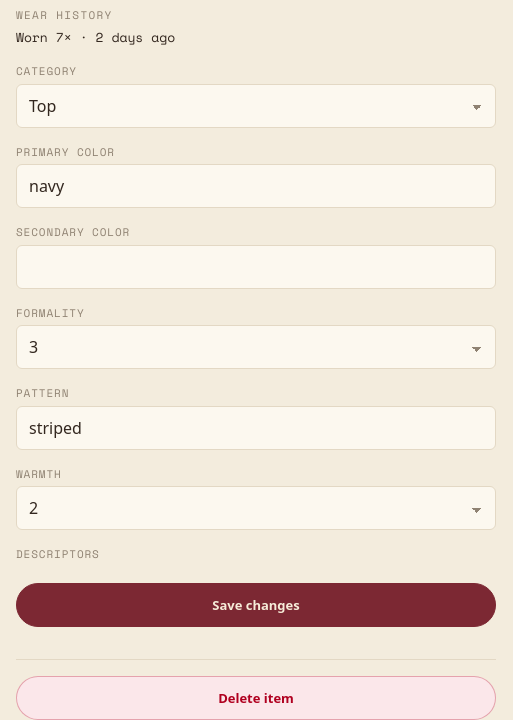
Scenario: ItemDetail › keeps the user on the page when a delete fails
(page scrolled)
Expected: the field labelled "Primary color" is shown, top-left (16, 164), bottom-right (496, 208)
Click the button "Delete item" at (256, 698), box top-left (16, 676), bottom-right (496, 719)
(page scrolled)
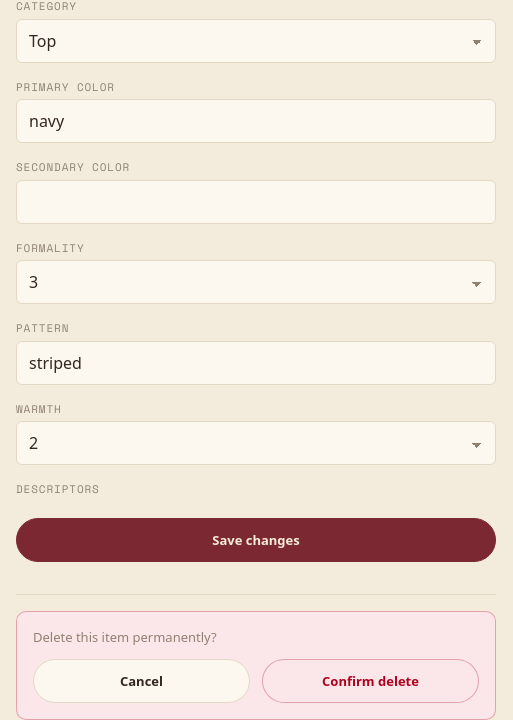
Click the button "Confirm delete" at (370, 681), box top-left (262, 659), bottom-right (479, 703)
(page scrolled)
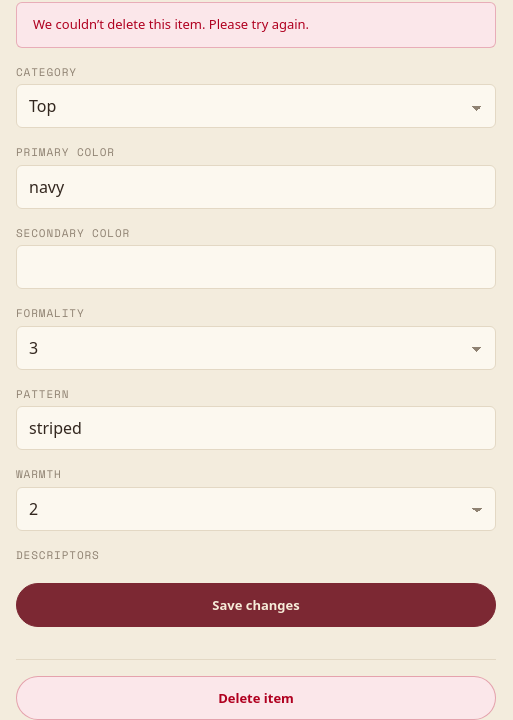
Now the text "We couldn’t delete this item. Please try again." is shown, box top-left (16, 2), bottom-right (496, 48)
